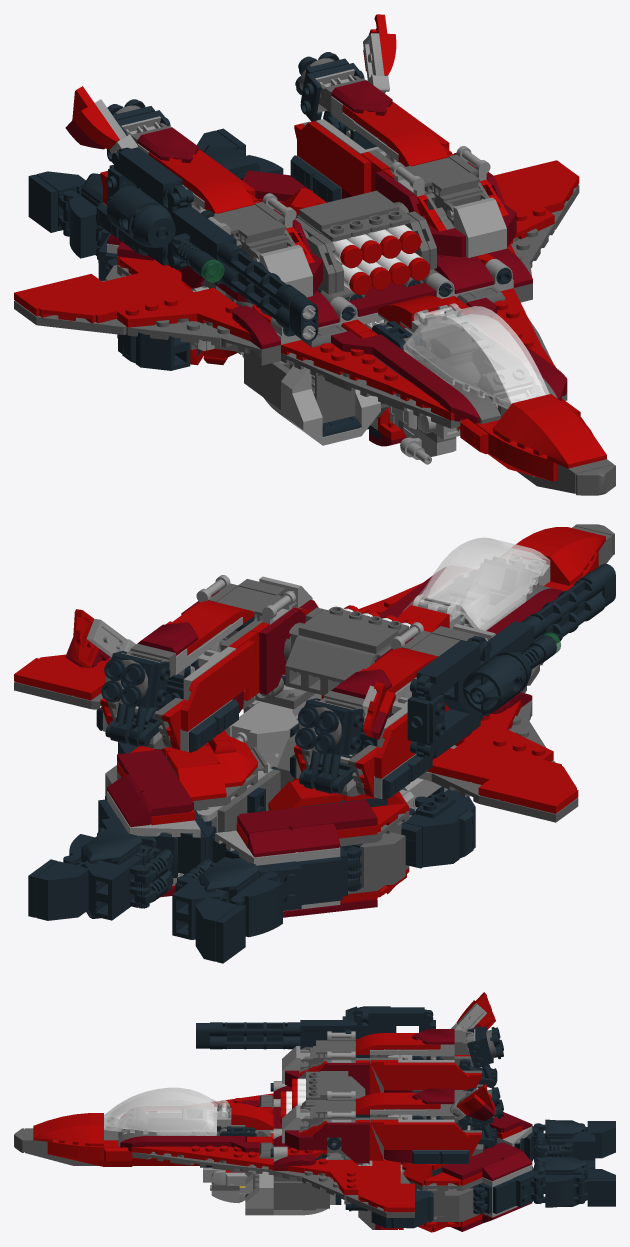
The model's file is afc-01z-legioss-fighter.dae.
The picture shows the model from 3 angles, top to bottom: view 1: azimuth 30°, elevation 25°; view 2: azimuth 150°, elevation 25°; view 3: azimuth 270°, elevation 25°; orthographic projection. The views are drawn at different scales.
Size of the model in its own units: 560 by 852 by 290.
